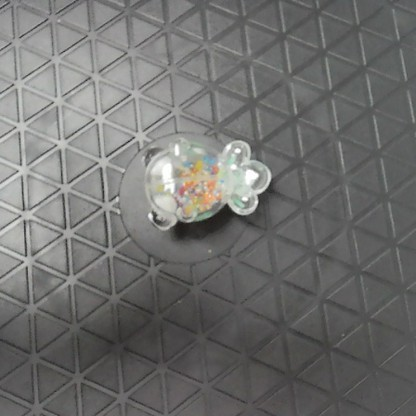whitefish: (140, 137, 271, 232)
